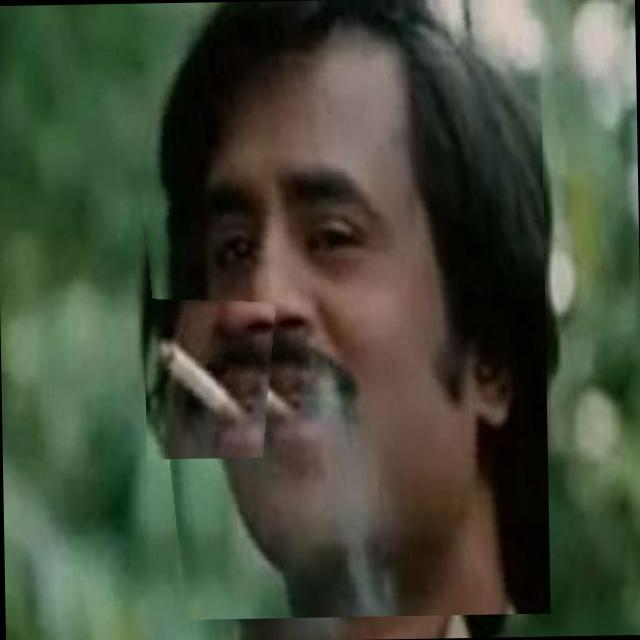cigarette: (144, 296, 278, 459)
